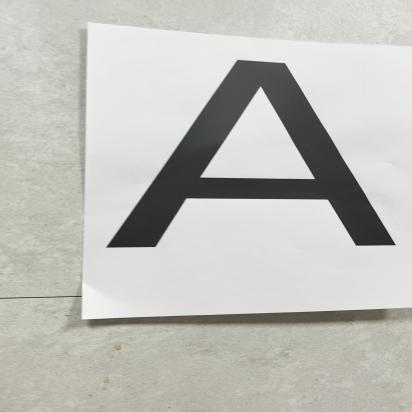seat: (115, 54, 395, 282)
